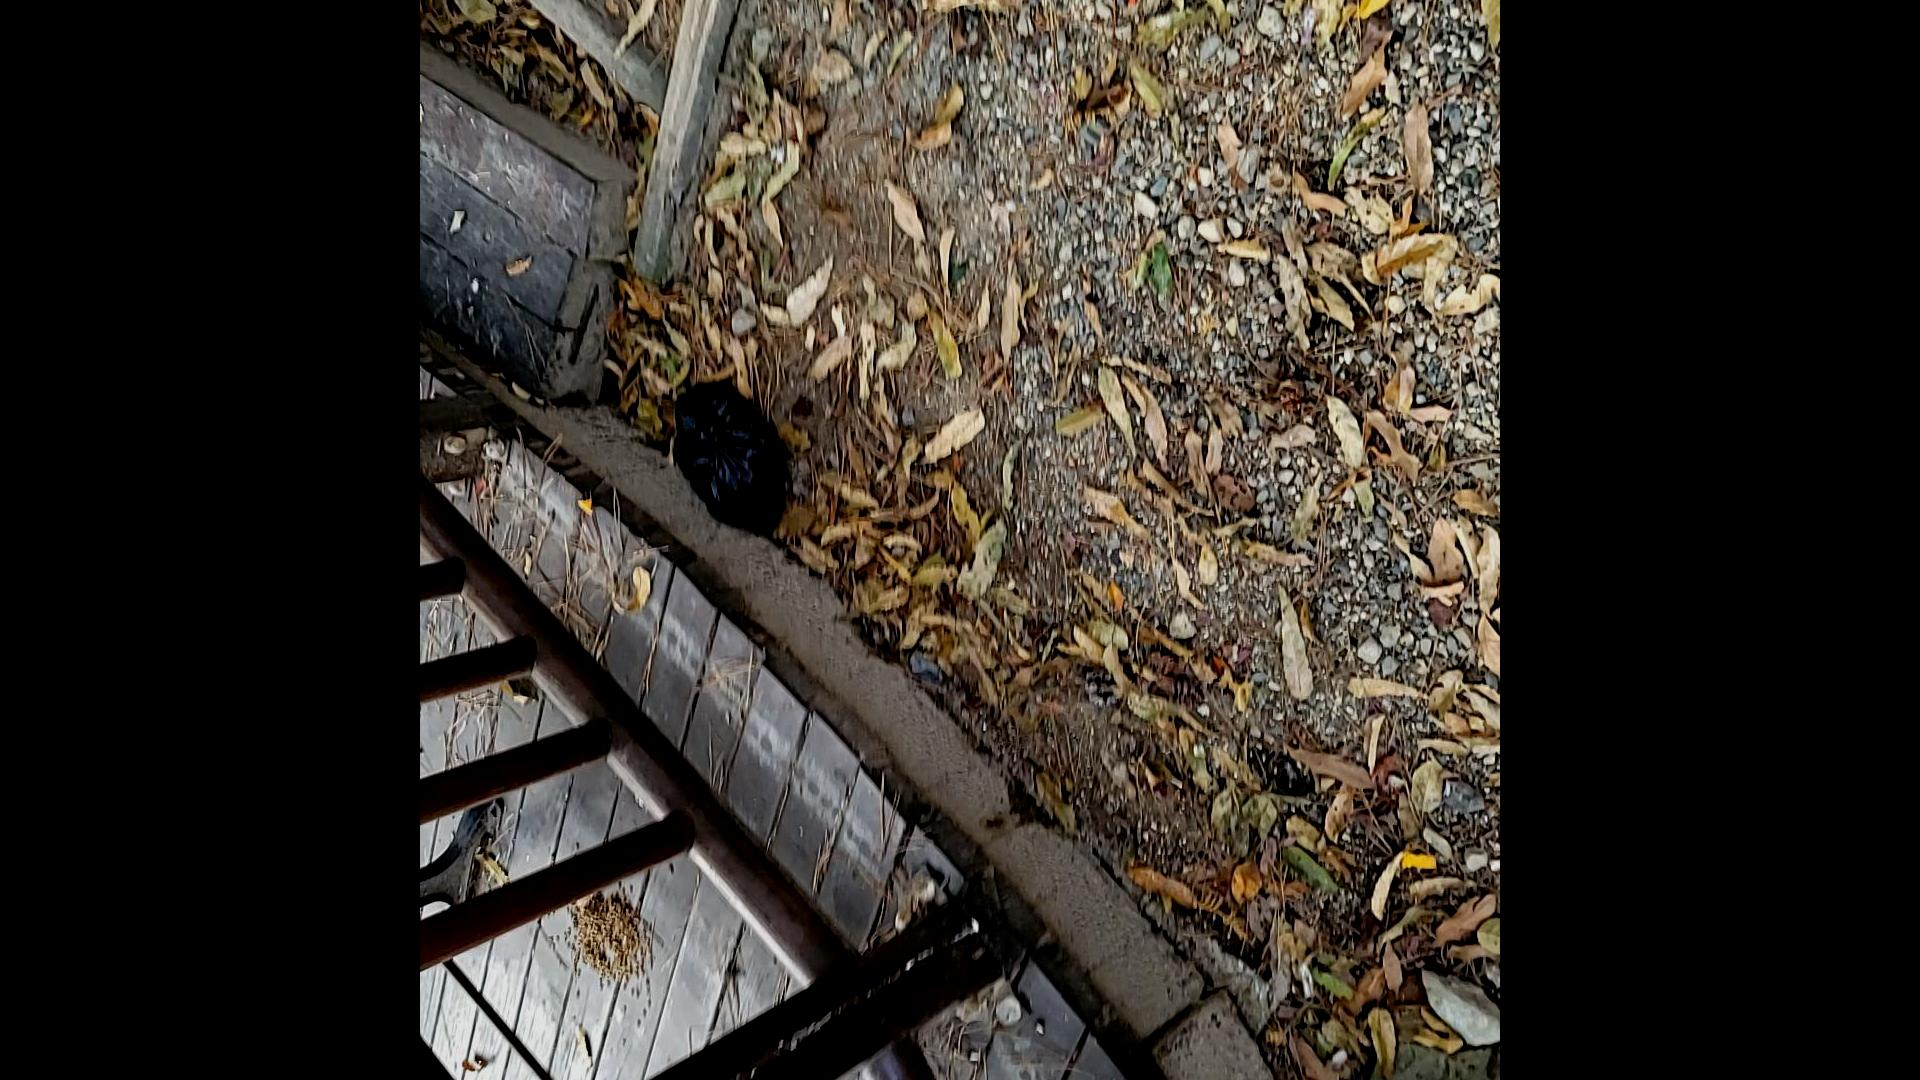black_bag: (659, 376, 785, 533)
